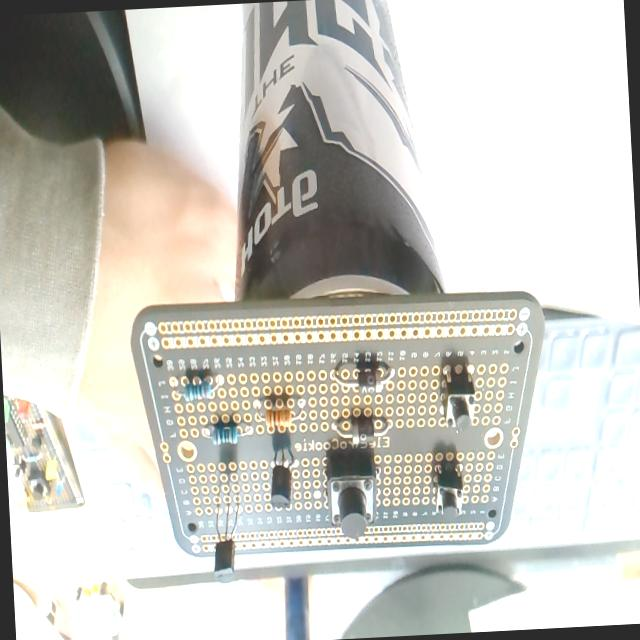diode: (332, 354, 393, 394), (332, 410, 392, 446)
resistor: (252, 394, 309, 431), (183, 376, 213, 402), (212, 421, 240, 446)
switch: (325, 450, 379, 538), (439, 362, 478, 432), (433, 463, 464, 521)
transistor: (208, 493, 246, 590), (264, 436, 300, 513)
